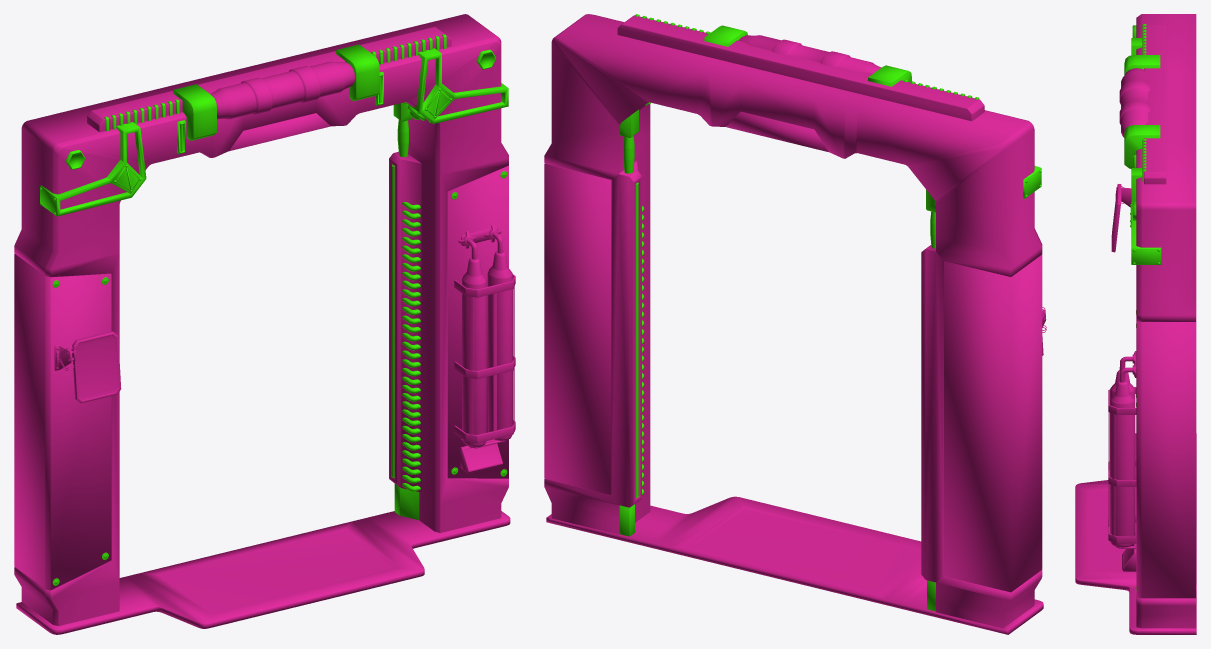
File: Door03_Frame01.FBX
3 renders of one model, left to right at view 1: azimuth 30°, elevation 25°; view 2: azimuth 150°, elevation 25°; view 3: azimuth 270°, elevation 25°, orthographic. The views are drawn at different scales.
Parts seen in each view (by area): view 1: SM_Door03_Frame01; view 2: SM_Door03_Frame01; view 3: SM_Door03_Frame01.
Part boxes in pixels (<box>): SM_Door03_Frame01: <box>14,14,515,634</box>; SM_Door03_Frame01: <box>544,14,1046,634</box>; SM_Door03_Frame01: <box>1075,14,1196,634</box>.
Size of the model in its own units: 280 by 290 by 71.83.
